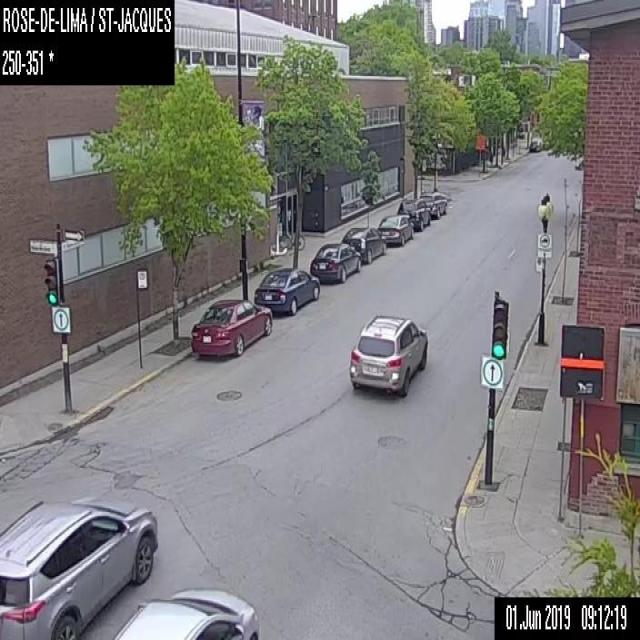construction: (475, 134, 483, 174)
vehicle: (0, 493, 156, 638), (114, 582, 258, 638), (348, 313, 428, 399), (190, 294, 271, 362), (253, 265, 319, 315), (311, 240, 362, 281), (342, 225, 388, 261), (397, 194, 432, 230), (378, 213, 414, 244), (420, 191, 447, 217), (529, 135, 541, 150)
